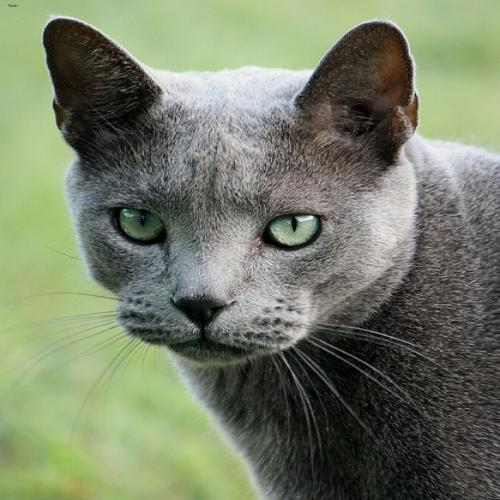rblue: (33, 8, 445, 373)
